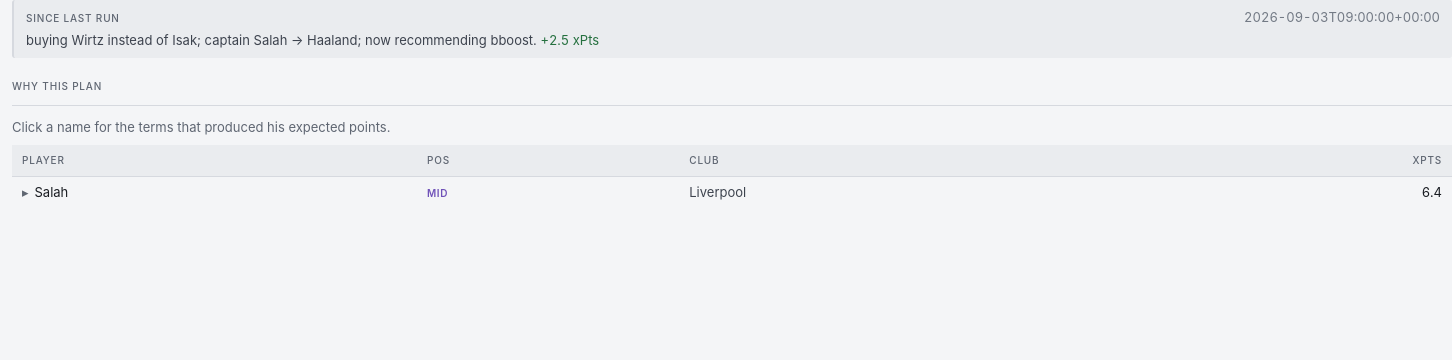
Test: WhyPanel › annotates Goals with the penalty duty inside it
Click the button "▸ Salah".
click(45, 193)  # box [22,183,68,202]
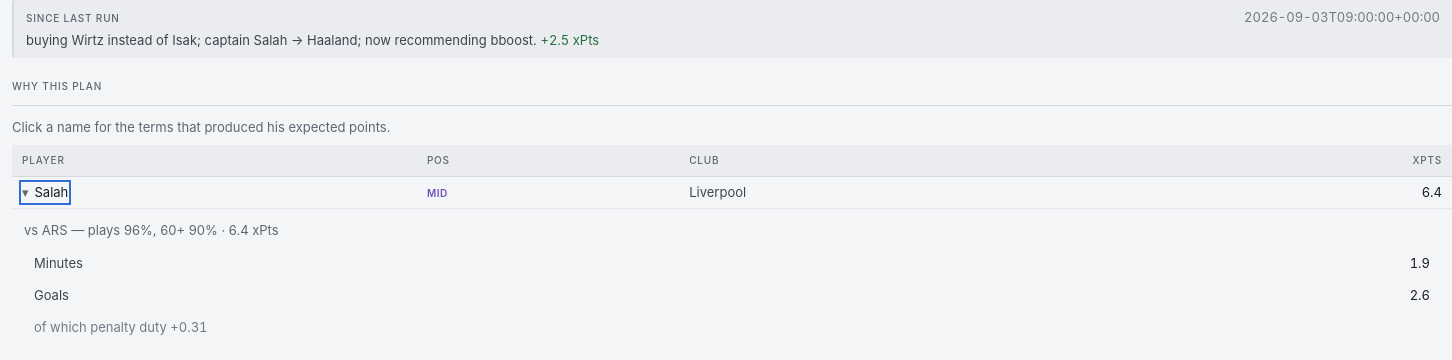
Expected: the text "of which penalty duty +0.31" is shown, [24,312,1440,344]
